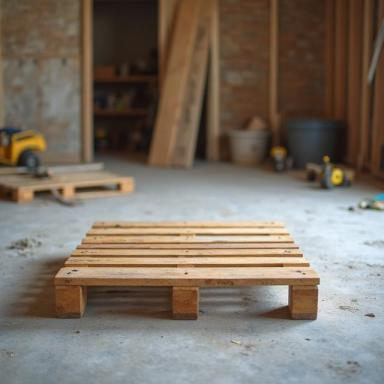pallet: (54, 220, 320, 320), (0, 168, 135, 205), (76, 184, 119, 197)
